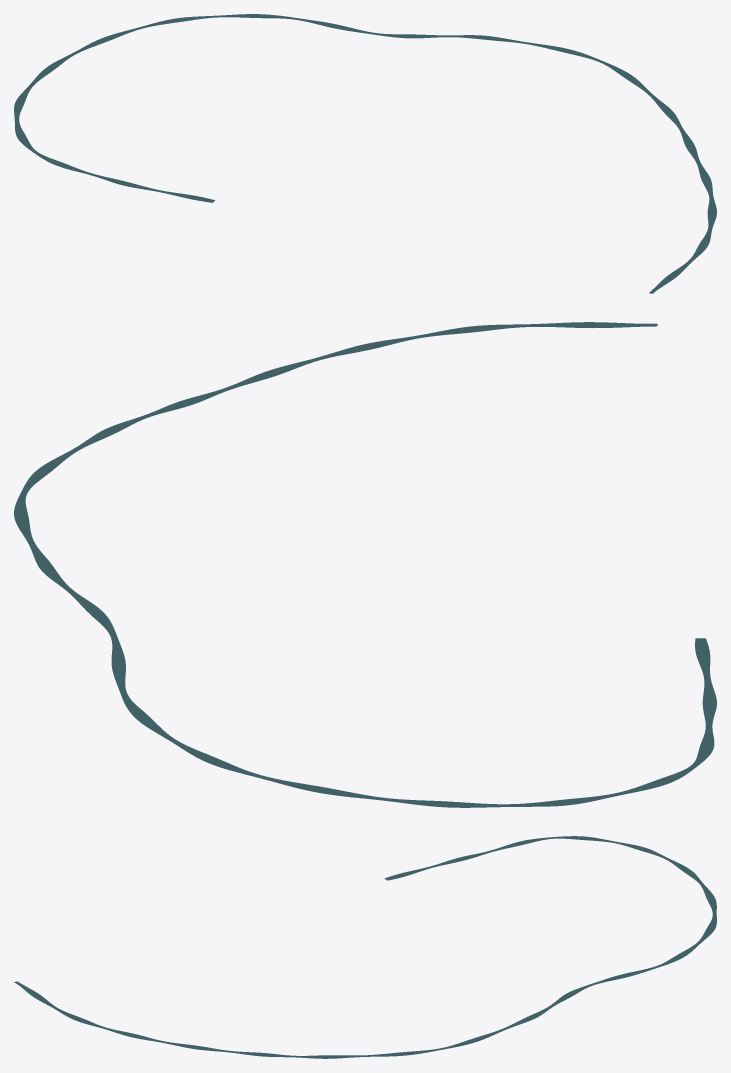
3 renders of one model, top to bottom at view 1: azimuth 30°, elevation 25°; view 2: azimuth 150°, elevation 25°; view 3: azimuth 270°, elevation 25°, orthographic. The views are drawn at different scales.
Parts seen in each view (by area): view 1: River; view 2: River; view 3: River.
Part boxes in pixels (x1,y1,x2,y2): River: [14, 14, 716, 293]; River: [14, 322, 716, 807]; River: [14, 836, 716, 1058].
Size of the model in its own units: 3806 by 142 by 4938.
